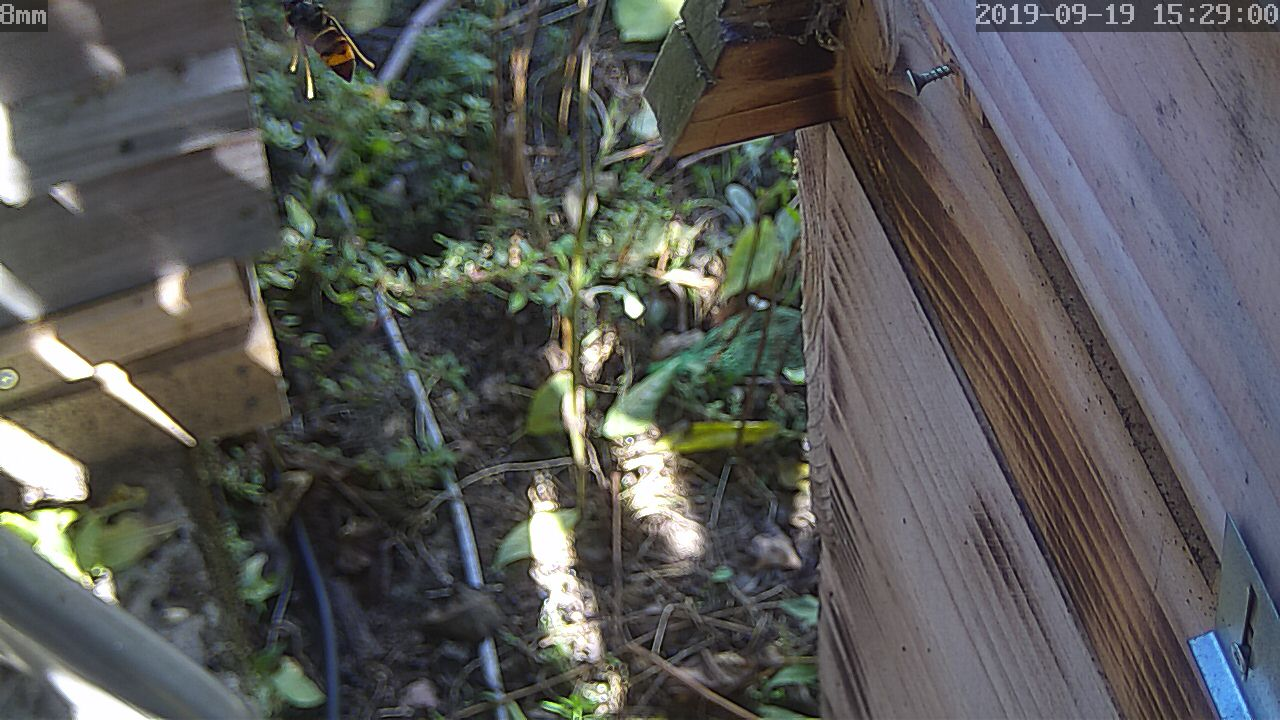hornet: (277, 1, 379, 100)
